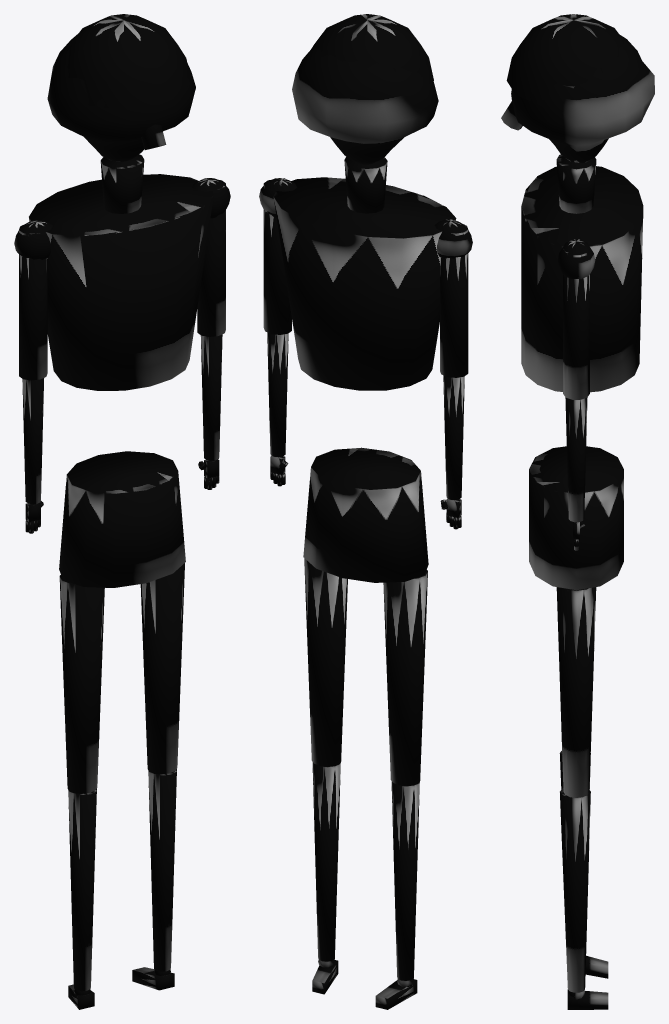
The model's file is survivor_female_3.glb.
3 renders of one model, left to right at view 1: azimuth 30°, elevation 25°; view 2: azimuth 150°, elevation 25°; view 3: azimuth 270°, elevation 25°, orthographic.
Parts seen in each view (by area): view 1: survivor_female_3; view 2: survivor_female_3; view 3: survivor_female_3.
Part boxes in pixels (x1=…): survivor_female_3: x1=14, y1=14, x2=230, y2=1009; survivor_female_3: x1=259, y1=14, x2=472, y2=1009; survivor_female_3: x1=501, y1=14, x2=654, y2=1009.
Size of the model in its own units: 0.3714 by 1.65 by 0.2373.
Materials: 1 (1 with a texture image).
